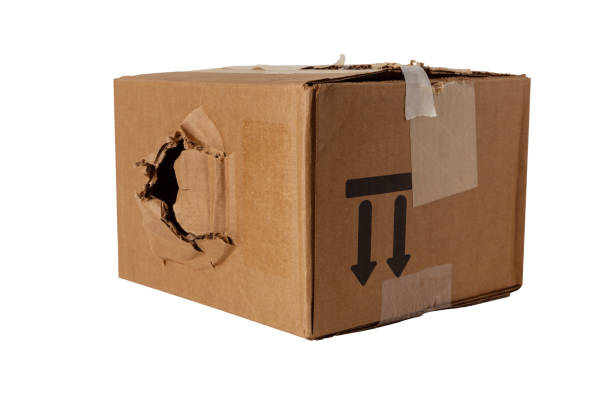damaged package: (132, 120, 240, 276), (314, 60, 526, 85)
